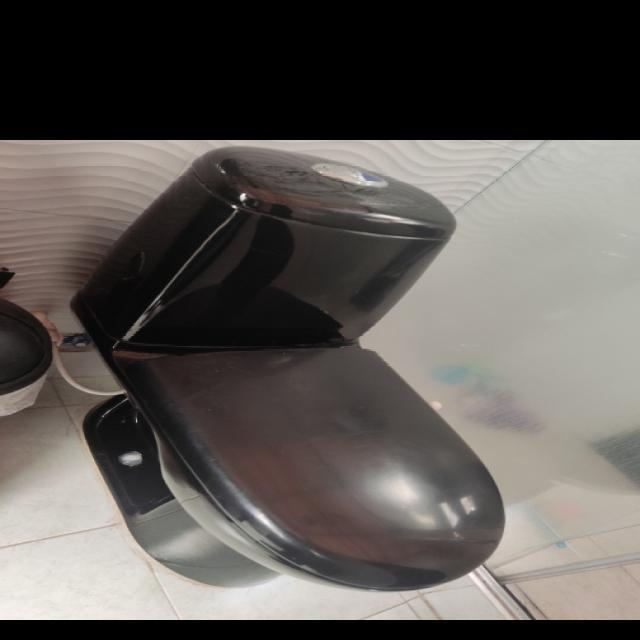toilet: (64, 143, 518, 596)
